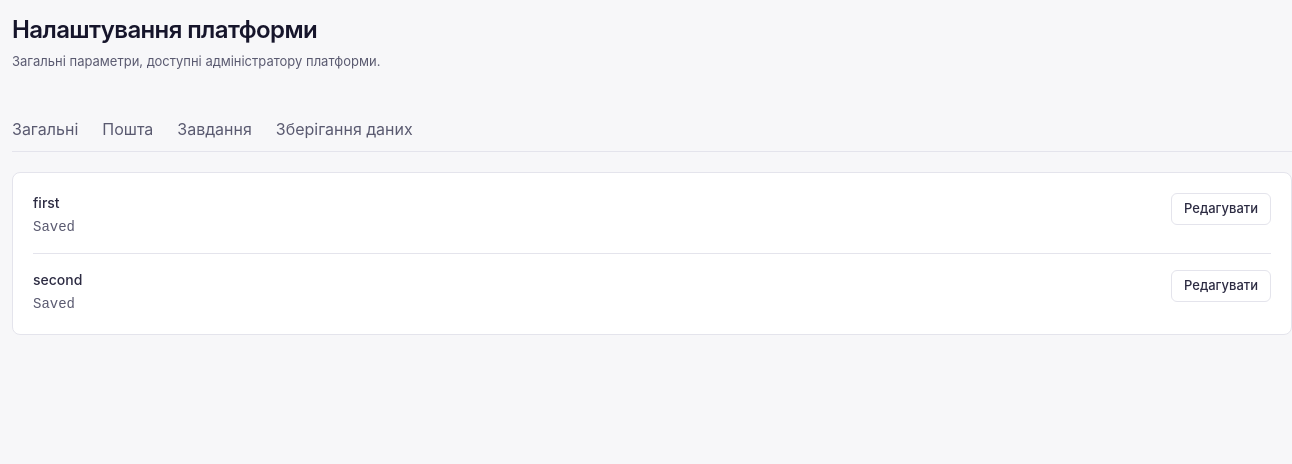
it: platform settings page › does not busy another setting editor while the previous setting saves
This screenshot has width=1292, height=464.
Click the button with aria-label "Редагувати first" at (1221, 208), box [1171, 192, 1271, 224]
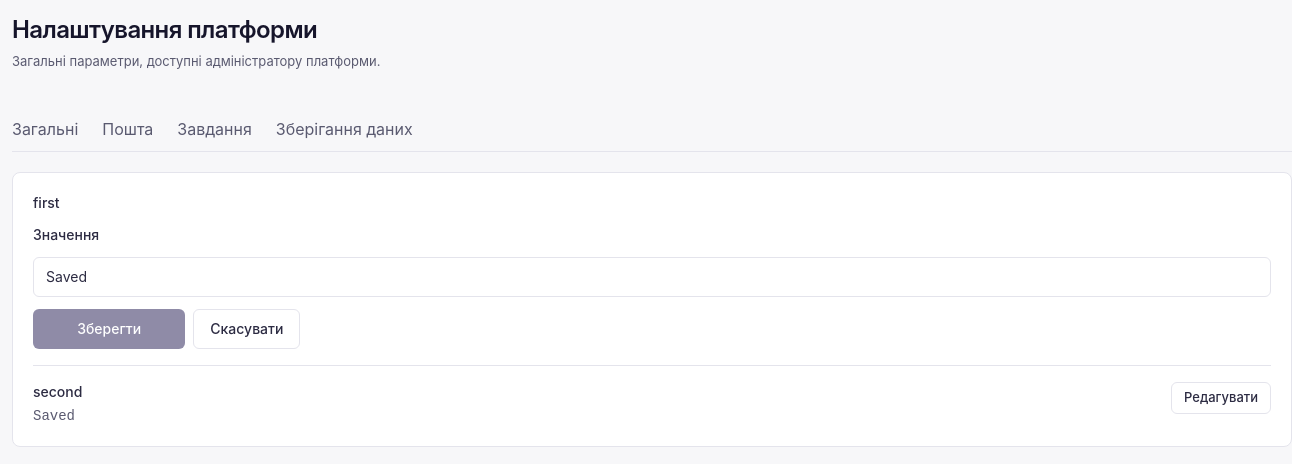
Replace the text in the field labelled "Значення" with "First changed" at (652, 276), box [33, 256, 1271, 296]
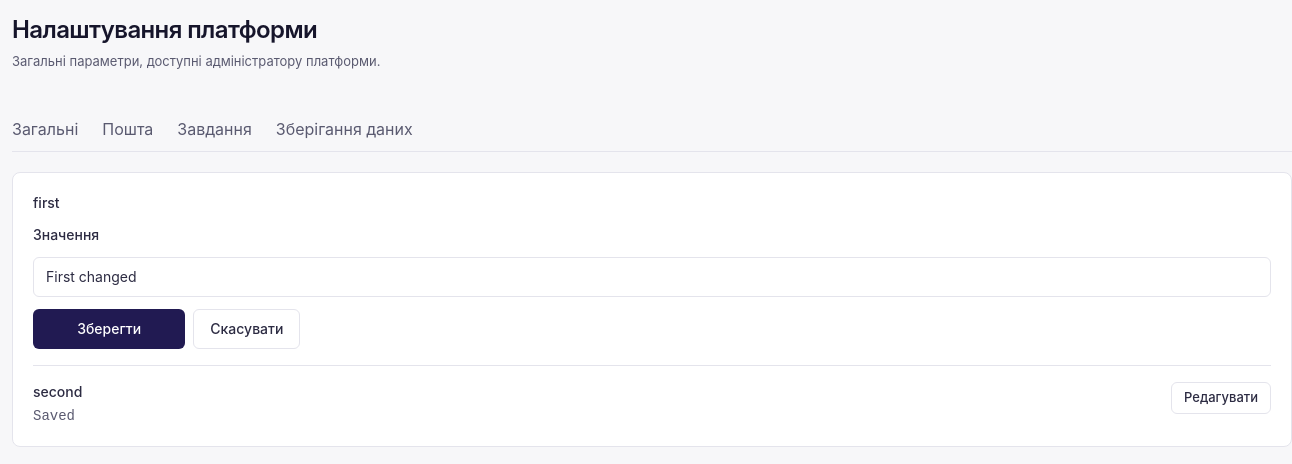
Click the button "Зберегти" at (109, 328), box [33, 308, 185, 348]
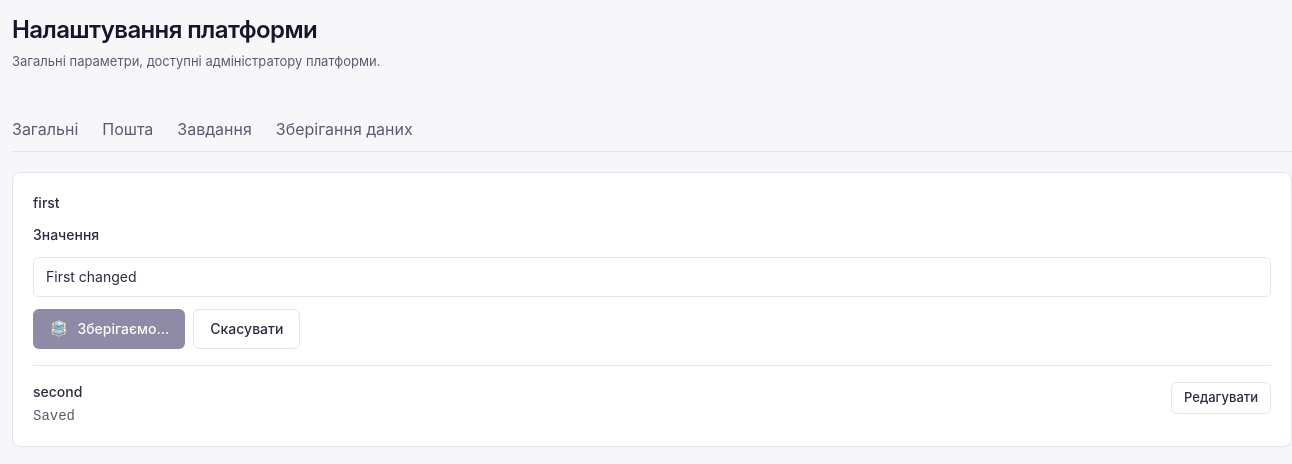
Click the button "Скасувати" at (247, 328), box [193, 308, 300, 348]
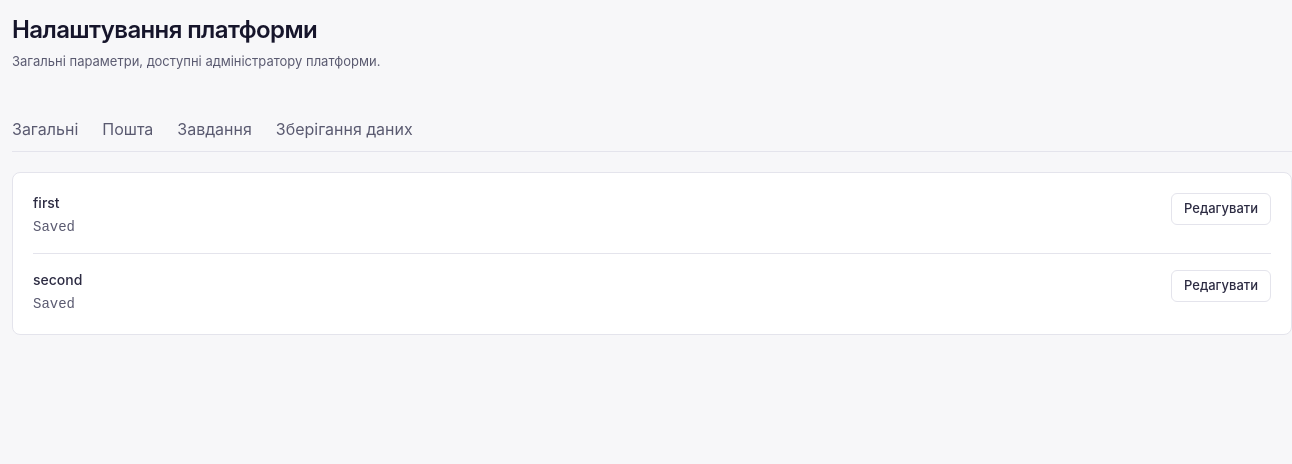
Click the button with aria-label "Редагувати second" at (1221, 286), box [1171, 270, 1271, 302]
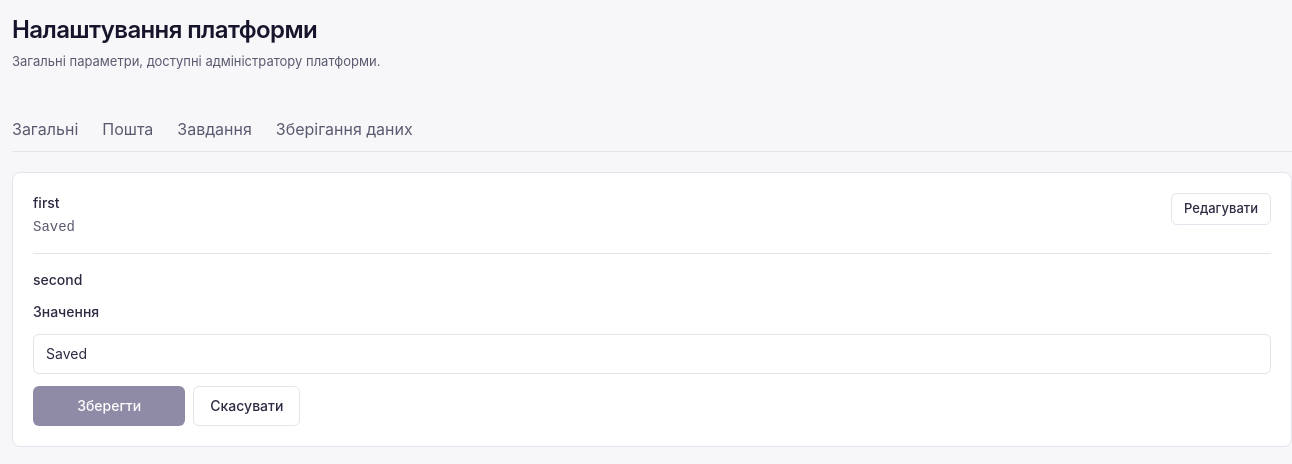
Replace the text in the field labelled "Значення" with "Second changed" at (652, 354), box [33, 334, 1271, 374]
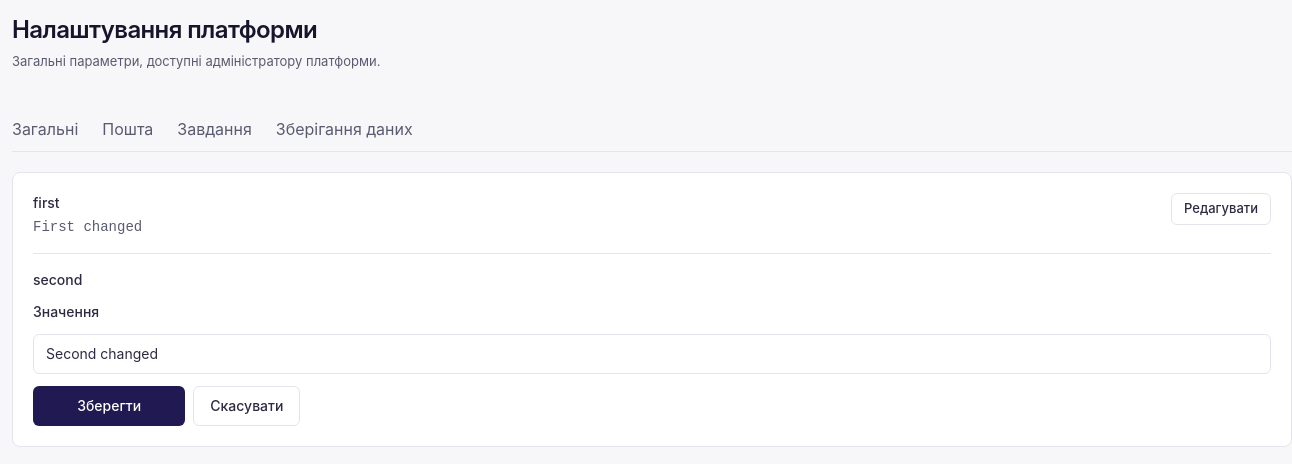
Result: the button "Зберегти" is enabled at [33, 386, 185, 426]
